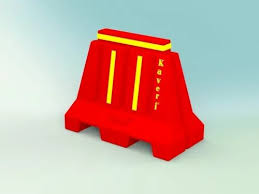barrier: (62, 23, 208, 162)
